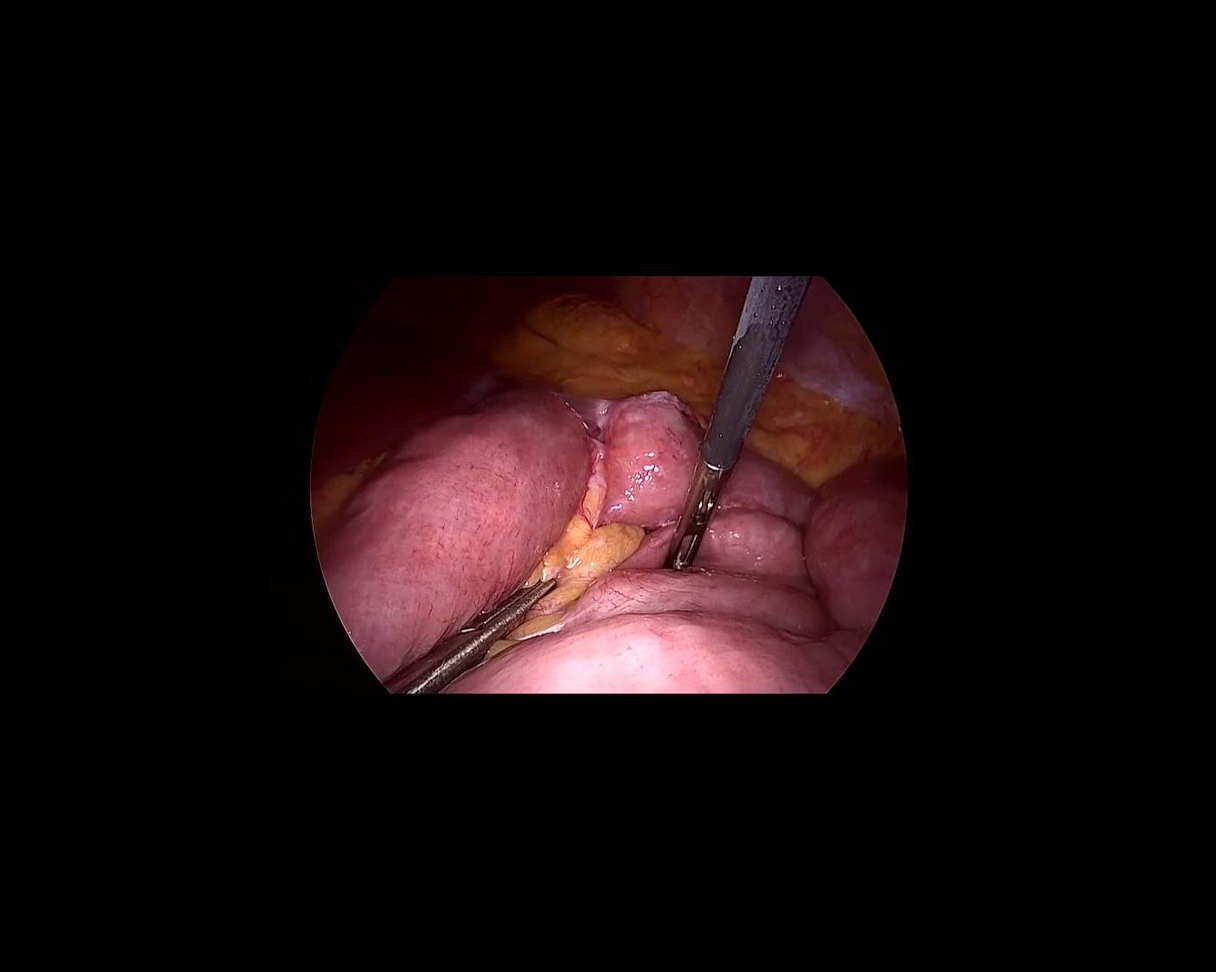Forceps: (639, 258, 810, 579), (383, 553, 562, 714)
Liver: (274, 299, 506, 471)
